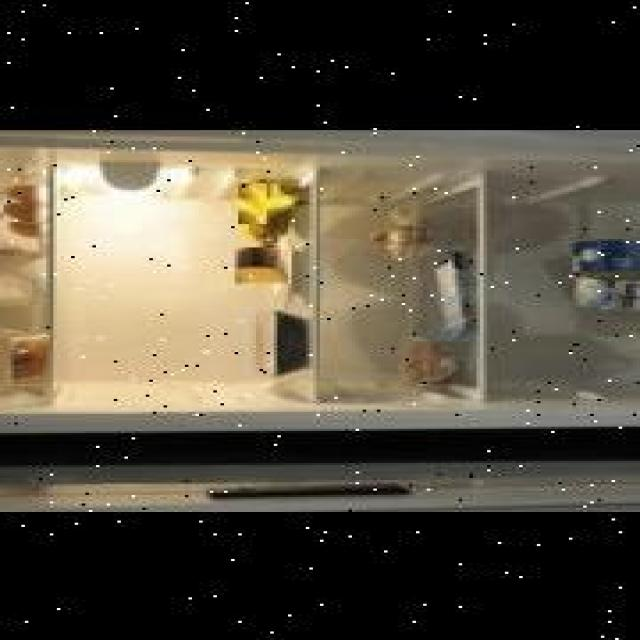banana: (251, 195, 297, 234), (240, 181, 268, 222)
bread: (9, 330, 51, 380)
cheese: (236, 245, 294, 282)
egg: (3, 200, 42, 220), (3, 182, 42, 198), (10, 218, 42, 236)
milk: (562, 237, 640, 271), (572, 276, 640, 310)
